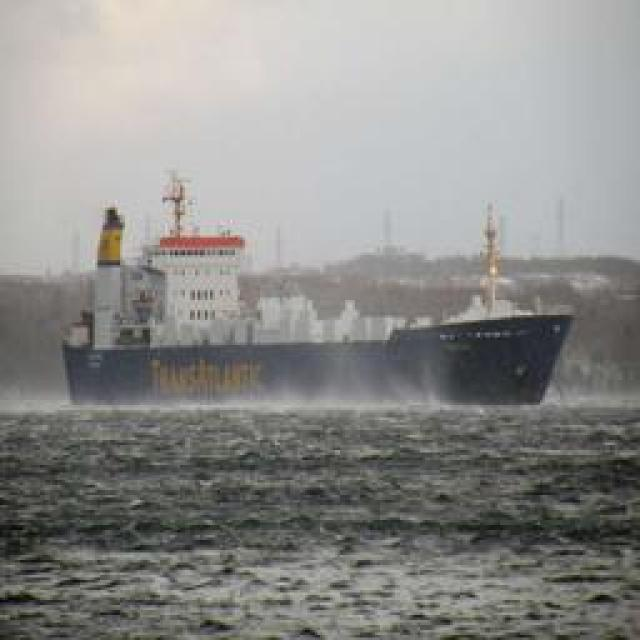ship2: (61, 170, 573, 412)
